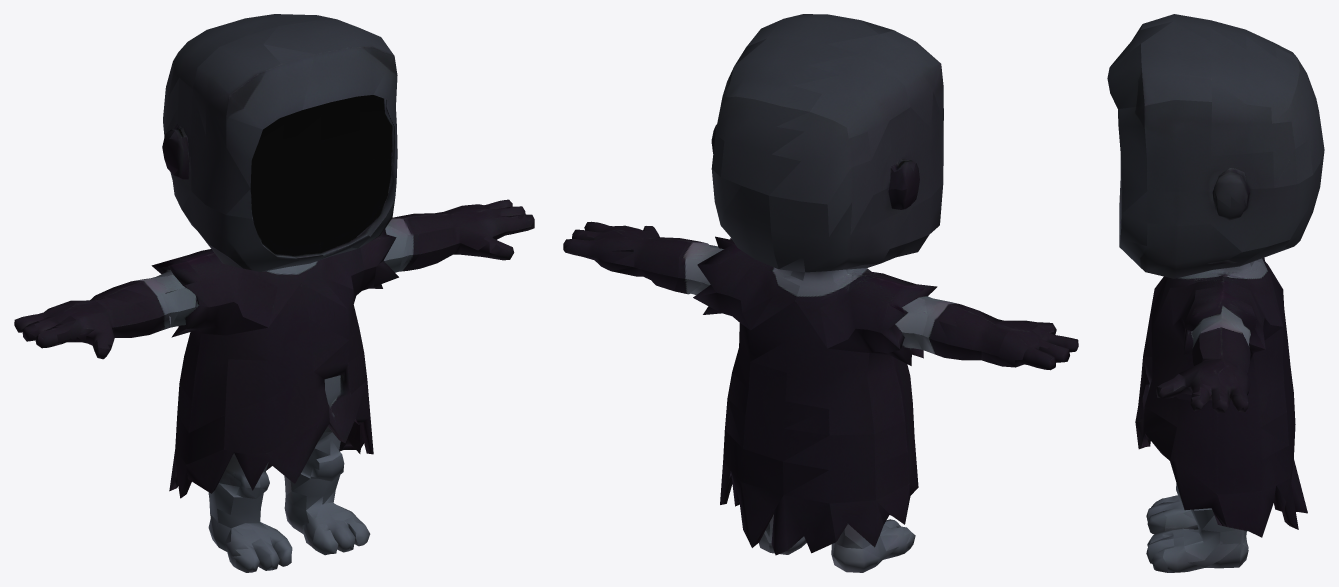
The model's file is meshy_raw.glb.
The picture shows the model from 3 angles, left to right: view 1: azimuth 30°, elevation 25°; view 2: azimuth 150°, elevation 25°; view 3: azimuth 270°, elevation 25°; orthographic projection. The views are drawn at different scales.
Size of the model in its own units: 1 by 0.9961 by 0.3867.
Materials: 1 (1 with a texture image).
